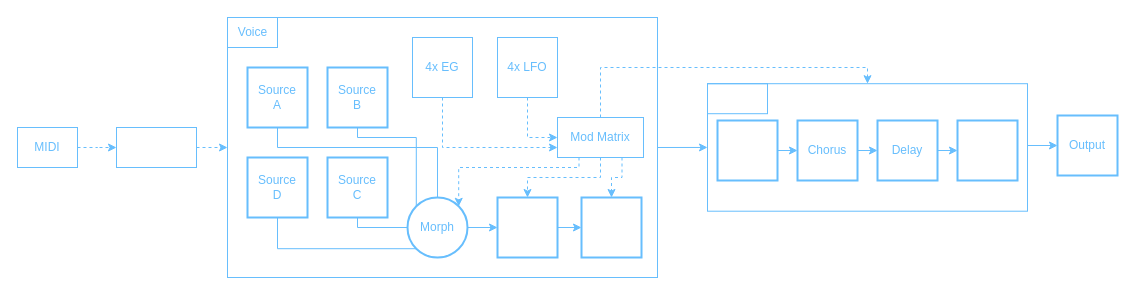
The diagram is 1136 pixels wide and 295 high, and some of its shapes have lost their labels. Each missing label, with the box of its shape:
Amp: (580, 196, 642, 258)
Arpeggiator: (116, 126, 196, 168)
Distortion: (716, 119, 778, 181)
Effects: (706, 83, 768, 114)
Filter: (496, 196, 558, 258)
Reverb: (956, 119, 1018, 181)
